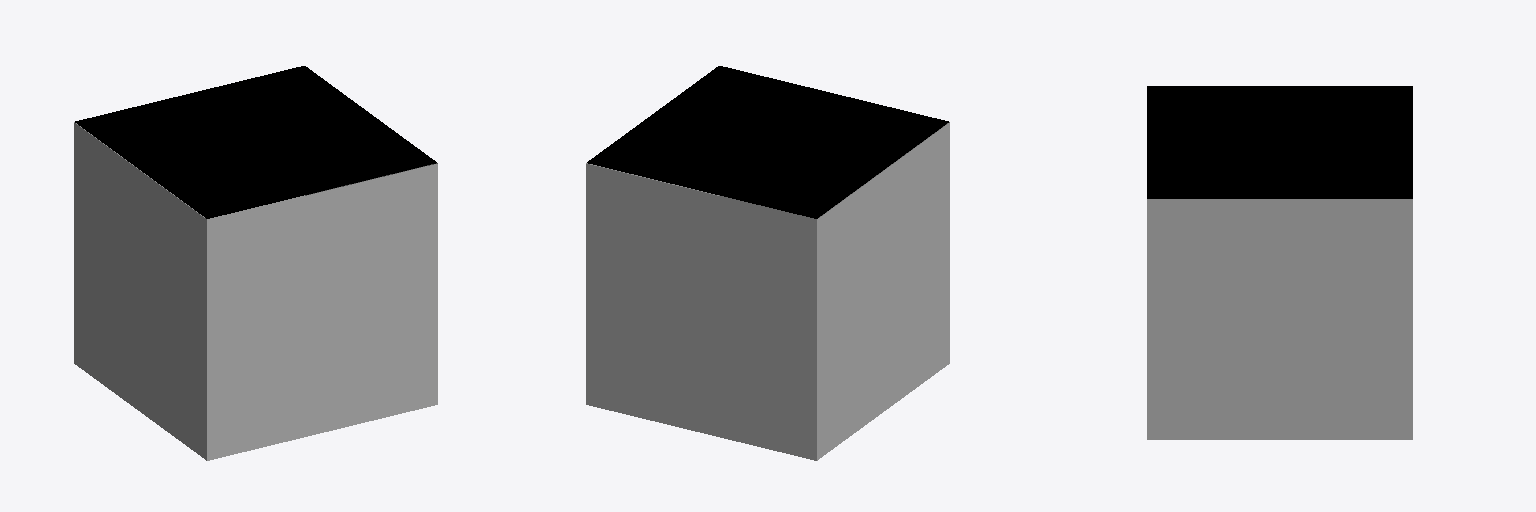
Rendered from field_4x4.obj.
The picture shows the model from 3 angles: view 1: azimuth 30°, elevation 25°; view 2: azimuth 150°, elevation 25°; view 3: azimuth 270°, elevation 25°; orthographic projection.
Visible parts, largest first — view 1: pCube1, polySurface7 polySurface5; view 2: pCube1, polySurface7 polySurface5; view 3: pCube1, polySurface7 polySurface5.
Part boxes in pixels (left/top/right/bottom): pCube1: left=74, top=122, right=437, bottom=460; polySurface7 polySurface5: left=75, top=66, right=436, bottom=218; pCube1: left=586, top=122, right=949, bottom=460; polySurface7 polySurface5: left=587, top=66, right=948, bottom=218; pCube1: left=1147, top=199, right=1412, bottom=439; polySurface7 polySurface5: left=1147, top=86, right=1412, bottom=198.
Size of the model in its own units: 800 by 850 by 800.